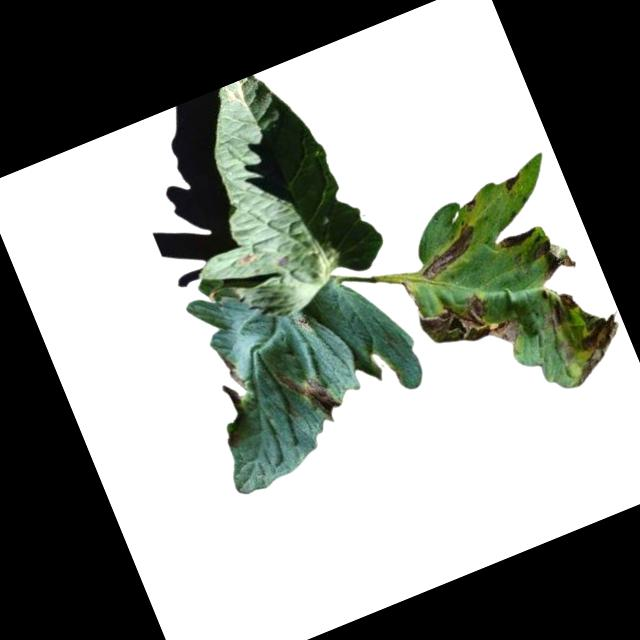Early_blight: (416, 281, 525, 373), (555, 308, 636, 387), (274, 353, 345, 430), (409, 218, 489, 284), (526, 229, 582, 285), (536, 287, 585, 335), (497, 223, 540, 251), (498, 170, 524, 193), (233, 248, 260, 268), (461, 194, 480, 212), (274, 251, 293, 268)
